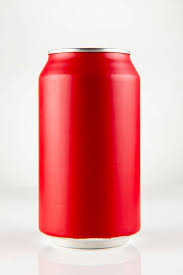can: (38, 47, 145, 250)
